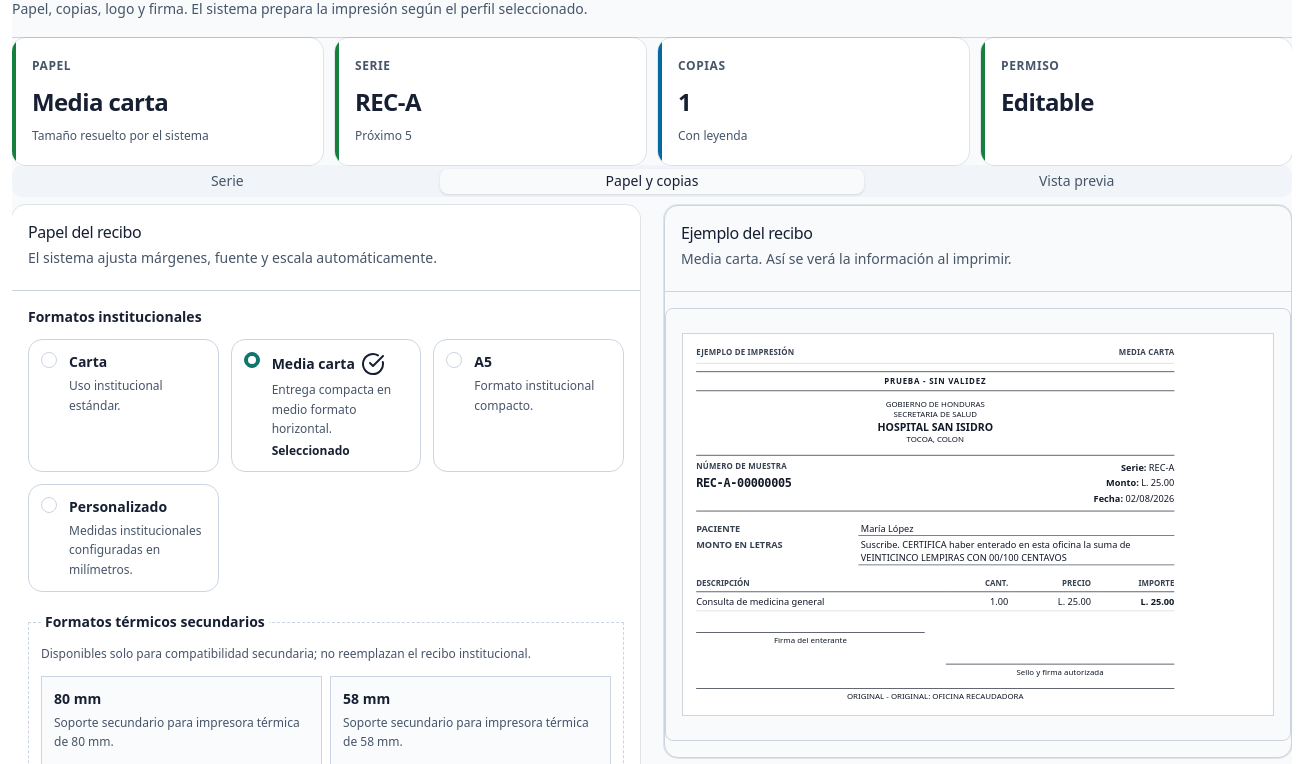
Test: InstitutionalReceiptSettingsView › actualiza la vista previa con el papel institucional elegido
Expected: the element named "Vista previa de recibo Media carta" is shown, 682,333 -> 1274,716
Click the radio button named "Carta".
click(49, 360)  # box 41,352 -> 57,368
(page scrolled)
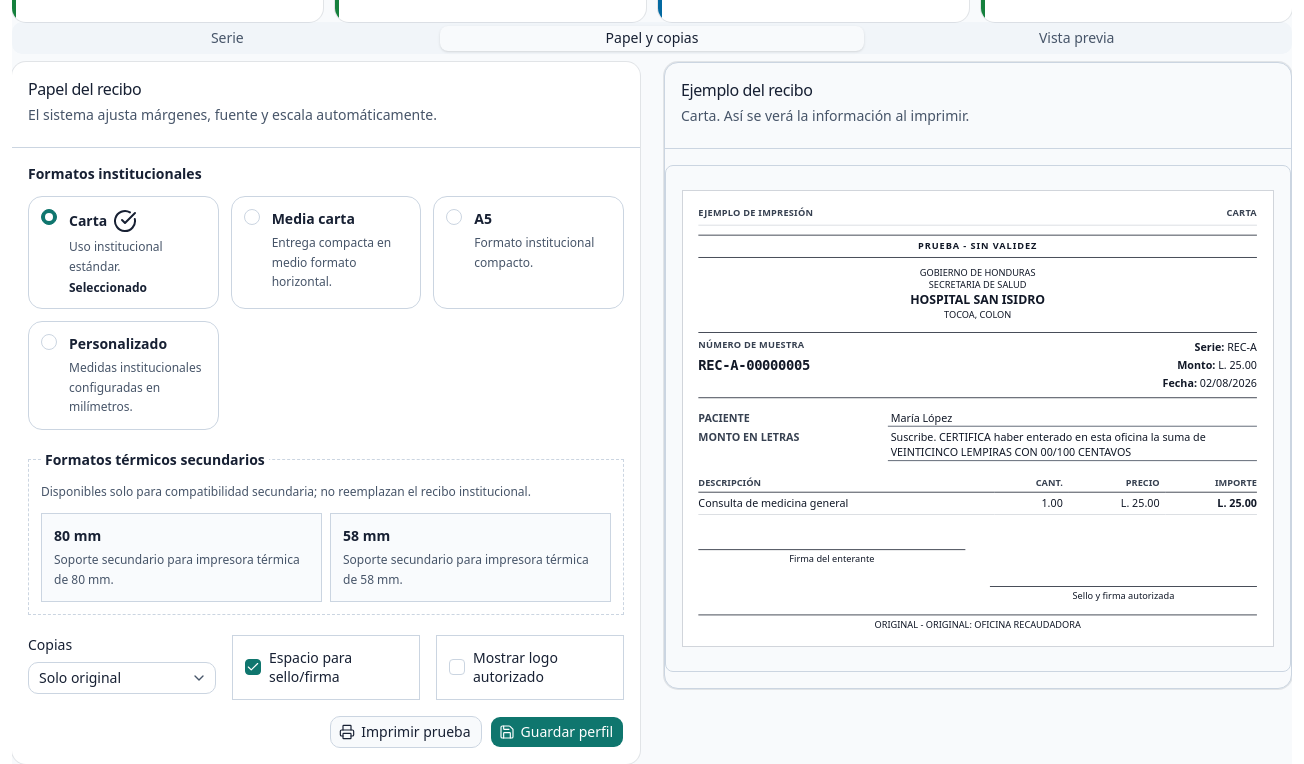
Expected: the element named "Vista previa de recibo Carta" is shown, 682,190 -> 1274,648
